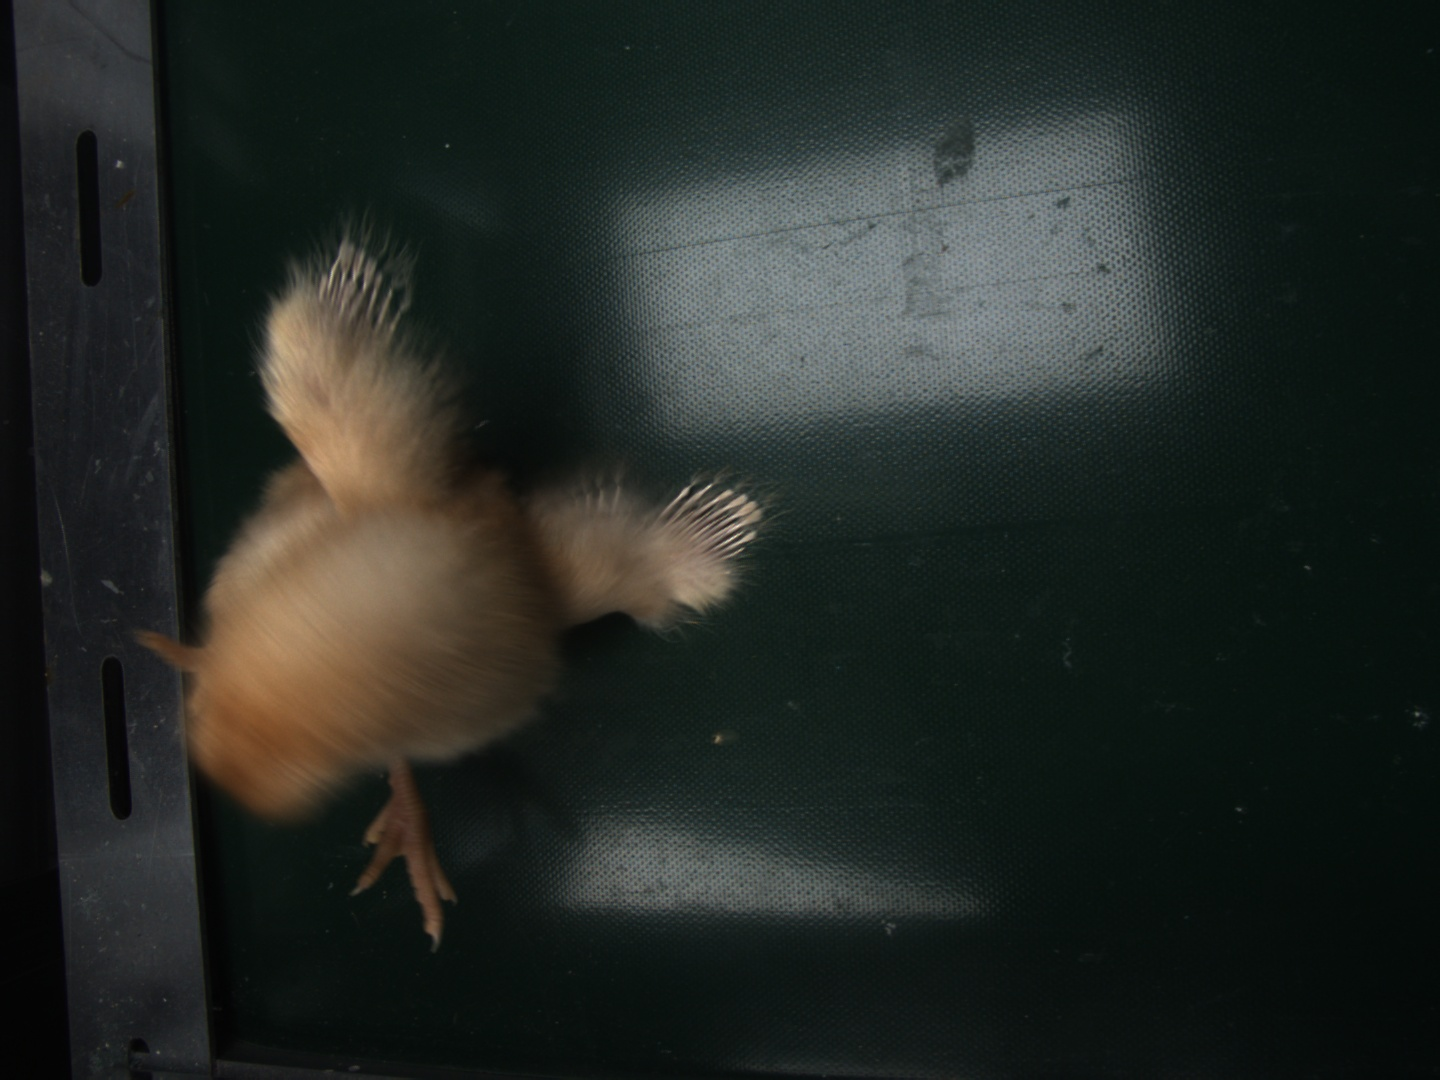female: (657, 480, 760, 562)
